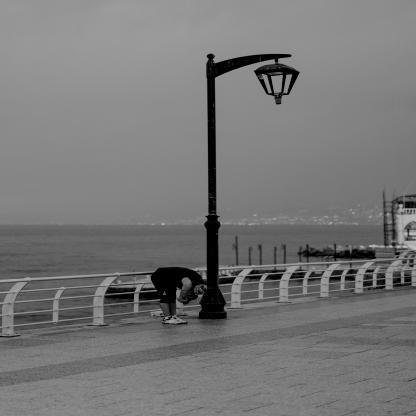light_pole: (199, 53, 300, 322)
